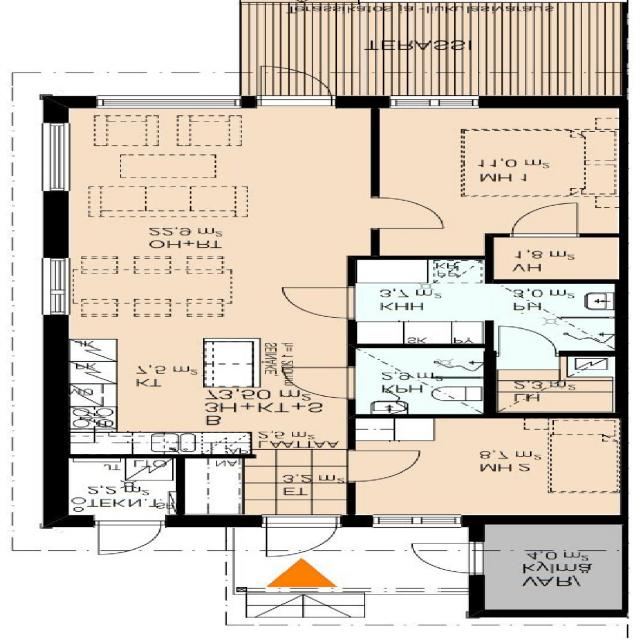door: (266, 515, 337, 560), (262, 63, 332, 106), (407, 544, 485, 574), (282, 377, 357, 408), (282, 287, 357, 318), (347, 451, 422, 481), (371, 198, 445, 228), (98, 521, 162, 554), (499, 326, 556, 356)
